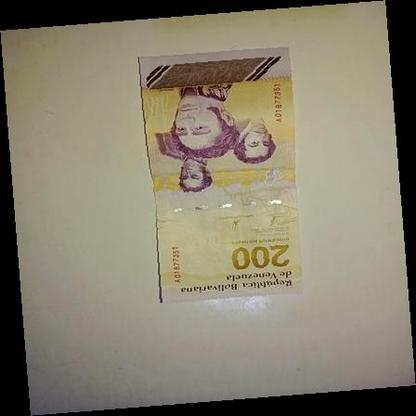two_hundred-front-vef: (138, 46, 303, 302)
